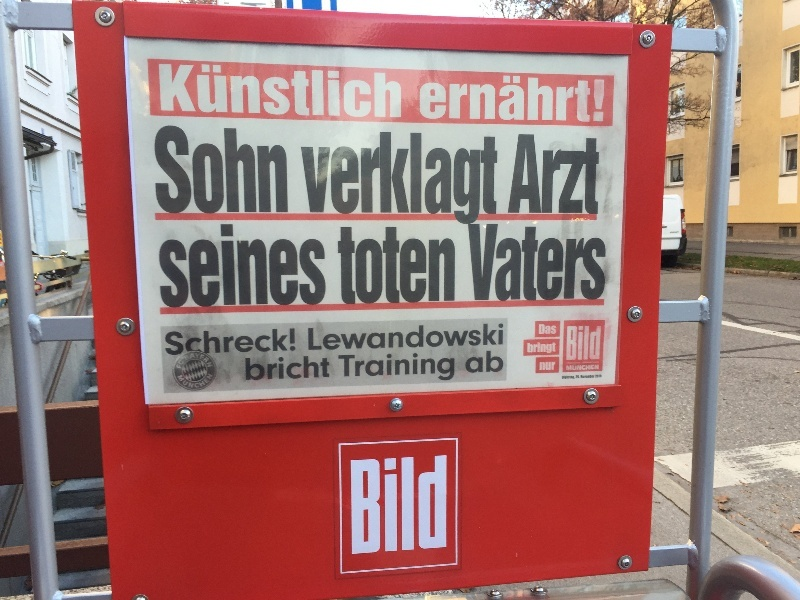text: (353, 455, 368, 555), (369, 455, 384, 555), (385, 455, 400, 555), (401, 455, 416, 555), (417, 455, 432, 555), (305, 129, 320, 226), (321, 129, 336, 226), (337, 129, 352, 226), (353, 129, 368, 226), (369, 129, 384, 226), (385, 129, 400, 226), (401, 129, 416, 226), (417, 129, 432, 226), (433, 129, 448, 226), (449, 129, 464, 226), (465, 129, 480, 226), (481, 129, 496, 226), (273, 125, 289, 213), (433, 455, 447, 555), (161, 125, 176, 213), (177, 125, 192, 213), (193, 125, 208, 213), (209, 125, 224, 213), (225, 125, 240, 213), (241, 125, 256, 213), (257, 125, 272, 213), (161, 224, 176, 308), (177, 224, 192, 308), (193, 224, 208, 308), (209, 224, 224, 308), (225, 224, 240, 308), (241, 224, 256, 308), (257, 224, 272, 308), (273, 224, 288, 308), (289, 224, 304, 308), (305, 224, 320, 308), (529, 135, 544, 215), (545, 135, 560, 215), (561, 135, 576, 215), (577, 135, 592, 215), (353, 227, 368, 305), (369, 227, 384, 305), (385, 227, 400, 305), (401, 227, 416, 305), (417, 227, 432, 305), (433, 227, 448, 305), (481, 224, 496, 301), (497, 224, 512, 301), (513, 224, 528, 301), (529, 224, 544, 301), (545, 224, 560, 301), (561, 224, 576, 301), (577, 224, 592, 301), (338, 227, 352, 305), (593, 224, 607, 301), (468, 224, 480, 301), (161, 64, 176, 118), (177, 64, 192, 118), (193, 64, 208, 118), (209, 64, 224, 118), (225, 64, 240, 118), (241, 64, 256, 118), (257, 64, 272, 118), (273, 64, 288, 118), (289, 64, 304, 118), (305, 64, 320, 118), (321, 64, 336, 118), (337, 64, 352, 118), (353, 64, 368, 118), (369, 64, 384, 118), (385, 64, 400, 118), (433, 73, 448, 123), (449, 73, 464, 123), (465, 73, 480, 123), (481, 73, 496, 123), (497, 73, 512, 123), (513, 73, 528, 123), (529, 73, 544, 123), (545, 73, 560, 123), (561, 73, 576, 123), (577, 73, 592, 123), (519, 135, 528, 215), (153, 125, 160, 213), (420, 73, 432, 123), (593, 73, 605, 123), (298, 129, 304, 226), (449, 227, 456, 305), (577, 326, 592, 361), (593, 135, 599, 215), (353, 353, 368, 382), (369, 353, 384, 382), (385, 353, 400, 382), (401, 353, 416, 382), (417, 353, 432, 382), (433, 353, 448, 382), (177, 328, 192, 356), (193, 328, 208, 356), (209, 328, 224, 356), (225, 328, 240, 356), (241, 328, 256, 356), (257, 328, 272, 356), (273, 328, 288, 356), (321, 224, 326, 308), (338, 353, 352, 382), (321, 323, 336, 350), (337, 323, 352, 350), (353, 323, 368, 350), (369, 323, 384, 350), (385, 323, 400, 350), (401, 323, 416, 350), (417, 323, 432, 350), (433, 323, 448, 350), (449, 323, 464, 350), (465, 323, 480, 350), (481, 323, 496, 350), (257, 356, 272, 381), (273, 356, 288, 381), (289, 356, 304, 381), (305, 356, 320, 381), (465, 350, 480, 373), (481, 350, 496, 373), (308, 323, 320, 350), (567, 326, 576, 361), (593, 326, 602, 361), (165, 328, 176, 356), (245, 356, 256, 381), (157, 224, 160, 308), (321, 356, 330, 381), (497, 129, 499, 226), (529, 343, 544, 355), (449, 353, 455, 382), (289, 328, 295, 356), (497, 323, 503, 350), (497, 350, 504, 373), (545, 343, 556, 355), (545, 325, 557, 335), (351, 455, 352, 555), (545, 362, 556, 371), (577, 365, 592, 371), (577, 375, 592, 380), (562, 375, 576, 380), (567, 365, 576, 371), (159, 64, 160, 118), (401, 64, 402, 118), (539, 325, 544, 335), (593, 375, 602, 380), (593, 365, 599, 371), (540, 362, 544, 371), (583, 362, 592, 364), (593, 362, 599, 364), (527, 343, 528, 355), (567, 363, 576, 364), (577, 363, 581, 364)
